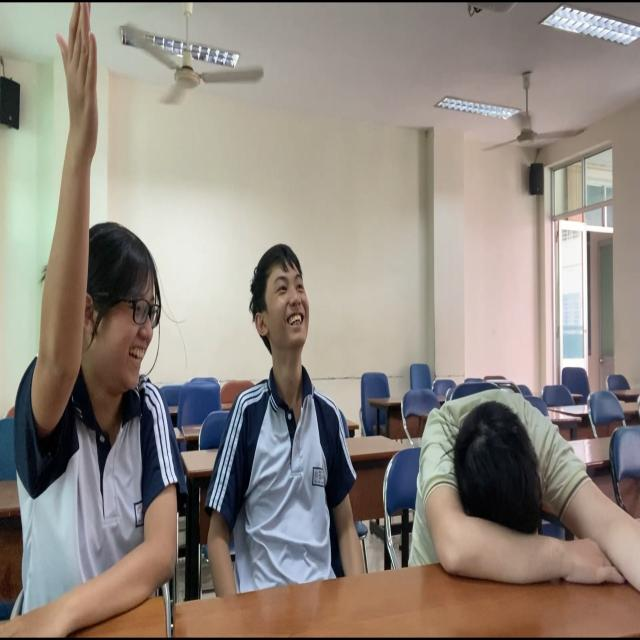raise_hand: (29, 1, 167, 640)
sleep: (409, 384, 618, 595)
